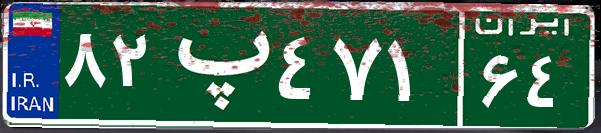1: (385, 28, 445, 110)
2: (110, 28, 158, 105)
4: (273, 28, 330, 110), (525, 38, 570, 115)
6: (475, 38, 525, 113)
7: (330, 28, 385, 110)
8: (57, 26, 110, 107)
پ: (158, 15, 273, 115)
